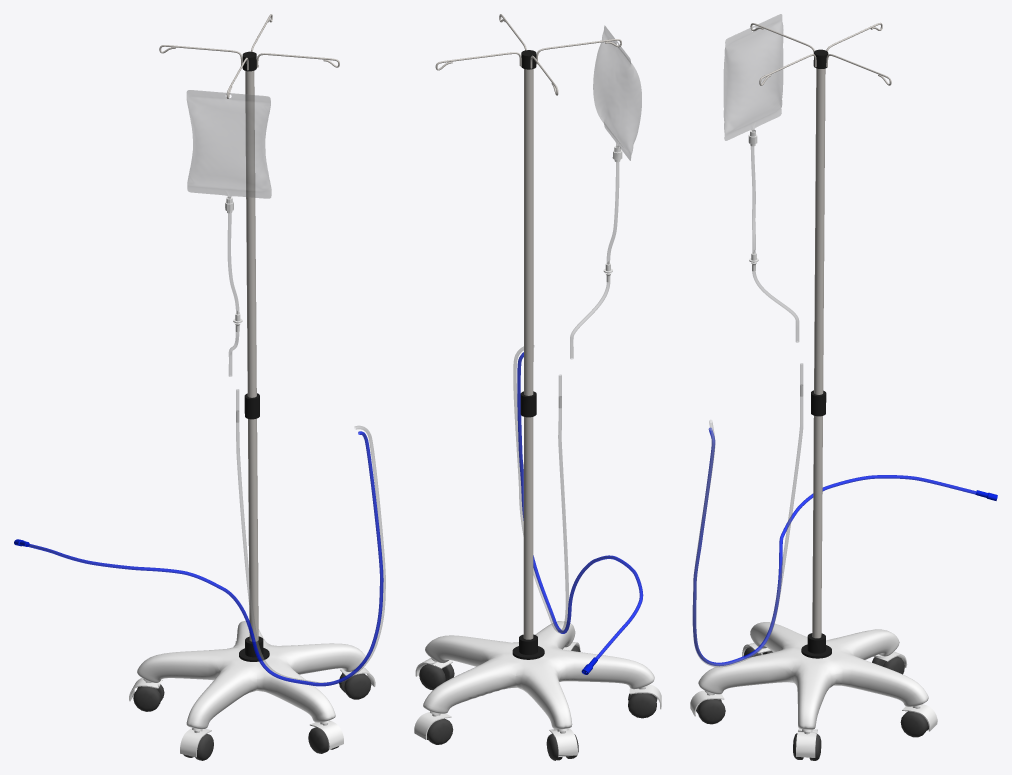
File: dolphin_stand.glb
The picture shows the model from 3 angles, left to right: view 1: azimuth 30°, elevation 25°; view 2: azimuth 150°, elevation 25°; view 3: azimuth 270°, elevation 25°; orthographic projection.
Visible parts, largest first — view 1: STAND; view 2: STAND; view 3: STAND.
Boxes of the visible parts, left/top/right/bottom form: STAND: left=14, top=14, right=385, bottom=760; STAND: left=414, top=14, right=661, bottom=760; STAND: left=690, top=14, right=997, bottom=760.
Bounding box in the file's own units: 0.8391 × 2.02 × 0.8513.
